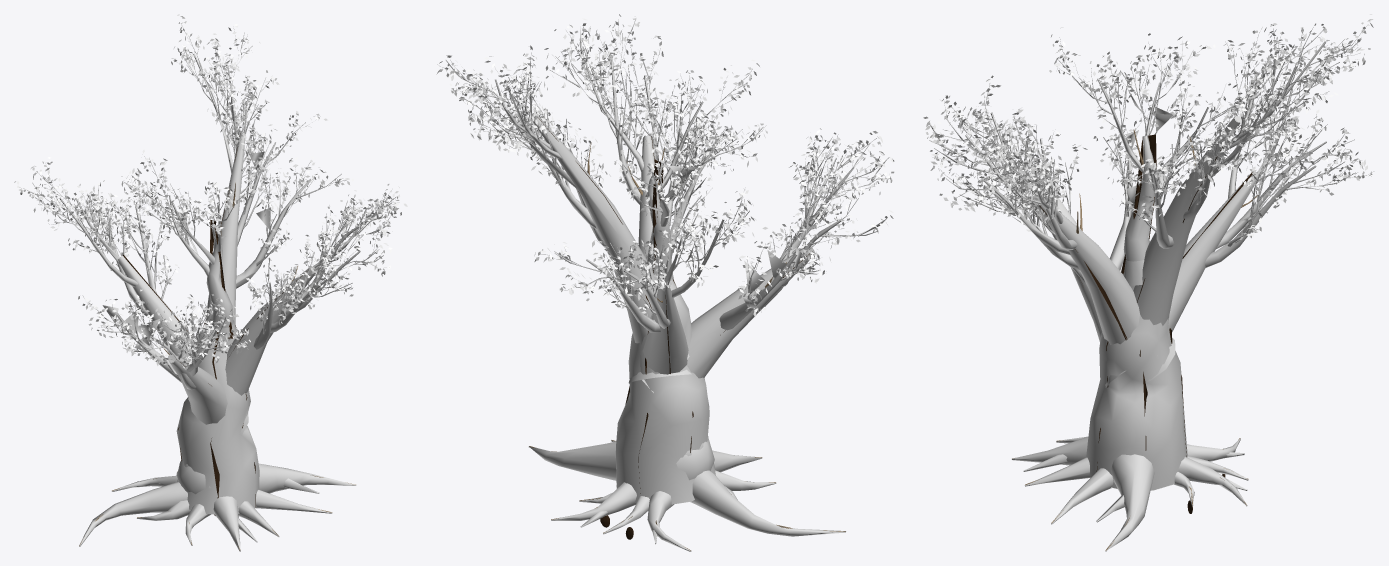
File: ancient_tree_09_lod2.glb
3 renders of one model, left to right at view 1: azimuth 30°, elevation 25°; view 2: azimuth 150°, elevation 25°; view 3: azimuth 270°, elevation 25°, orthographic. The views are drawn at different scales.
Visible parts, largest first — view 1: AncientTreeWood_LOD2, AncientLeaves_LOD2, FineBranches_LOD2, DirectedBarkGrooves_LOD2; view 2: AncientTreeWood_LOD2, AncientLeaves_LOD2, FineBranches_LOD2, DirectedBarkGrooves_LOD2; view 3: AncientTreeWood_LOD2, AncientLeaves_LOD2, FineBranches_LOD2, DirectedBarkGrooves_LOD2.
Part boxes in pixels (x1,y1,x2,y2): AncientTreeWood_LOD2: (32,32,395,551); AncientLeaves_LOD2: (14,14,407,369); FineBranches_LOD2: (19,23,395,364); DirectedBarkGrooves_LOD2: (122,133,308,507); AncientTreeWood_LOD2: (446,26,883,551); AncientLeaves_LOD2: (436,14,894,317); FineBranches_LOD2: (437,19,890,310); DirectedBarkGrooves_LOD2: (538,118,812,493); AncientTreeWood_LOD2: (929,27,1361,551); AncientLeaves_LOD2: (923,14,1373,239); FineBranches_LOD2: (929,24,1374,242); DirectedBarkGrooves_LOD2: (1039,134,1252,471).
Bounding box in the file's own units: 17.75 × 25.59 × 20.22.
